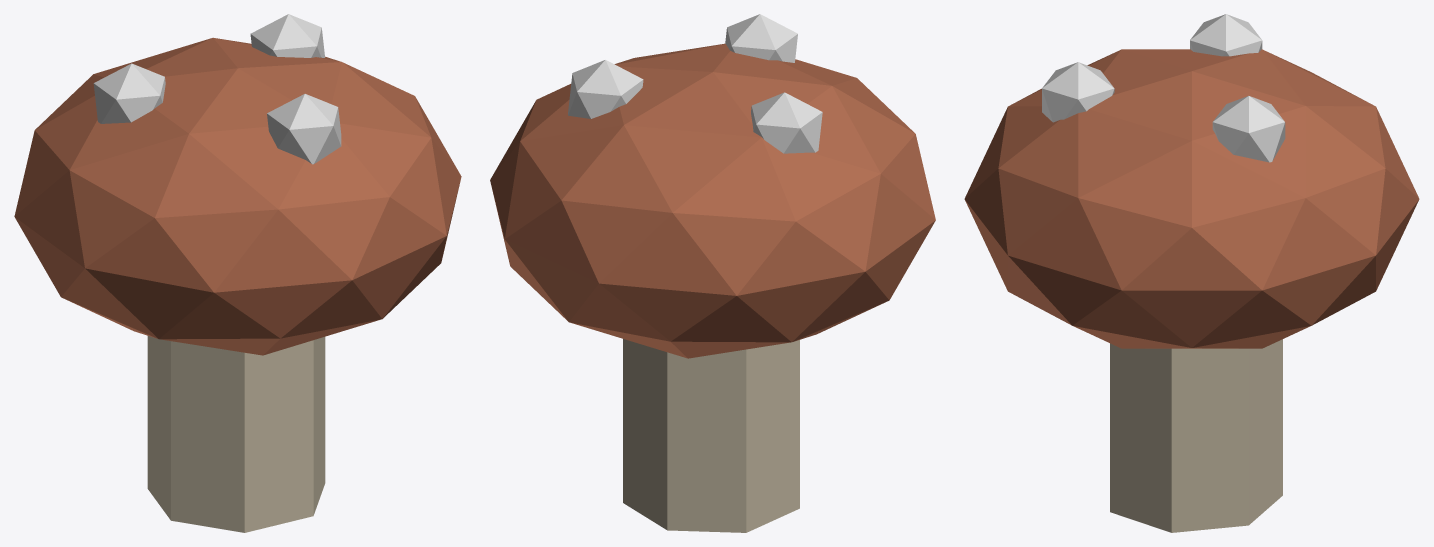
Rendered from mushroom.glb.
3 views of the same model, side by side, from view 1: azimuth 30°, elevation 25°; view 2: azimuth 150°, elevation 25°; view 3: azimuth 270°, elevation 25° (orthographic).
Visible parts, largest first — view 1: Cylinder; view 2: Cylinder; view 3: Cylinder.
Boxes of the visible parts, x1=… form: Cylinder: x1=14, y1=14, x2=461, y2=532; Cylinder: x1=490, y1=14, x2=935, y2=532; Cylinder: x1=964, y1=14, x2=1419, y2=532.
Size of the model in its own units: 0.2891 by 0.323 by 0.304.
